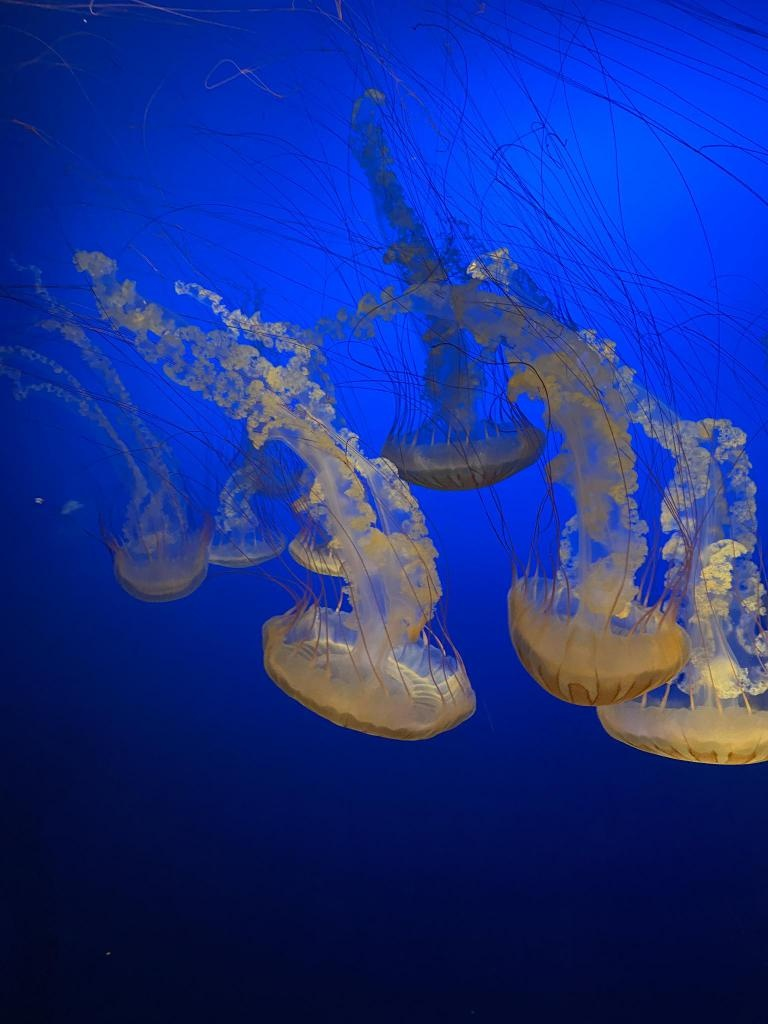jellyfish: (262, 606, 478, 740), (509, 574, 693, 706), (381, 418, 547, 490), (597, 698, 768, 765), (110, 530, 208, 604), (288, 536, 354, 580), (204, 533, 292, 565)
